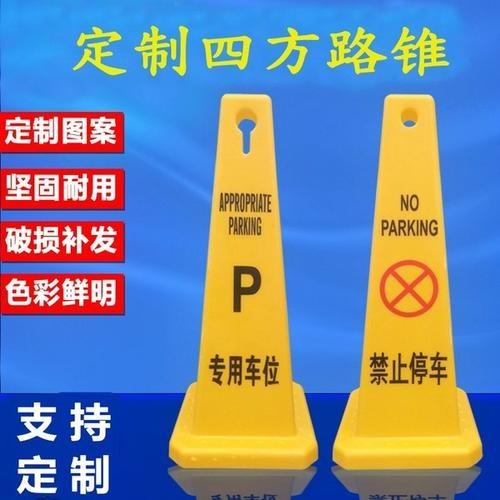cone_barrel: (159, 90, 325, 481), (326, 89, 486, 472)
